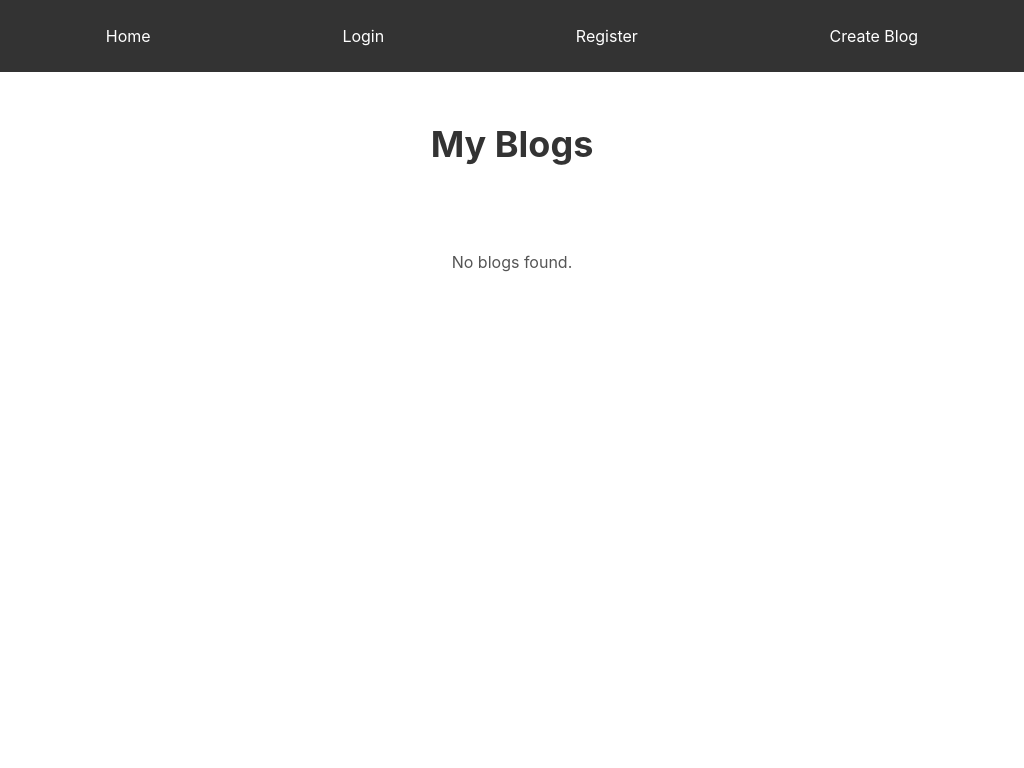
Test: navigates to /register when Register link is clicked
The image size is (1024, 768).
Click the link "Register" at (607, 36), box [576,26,638,46]
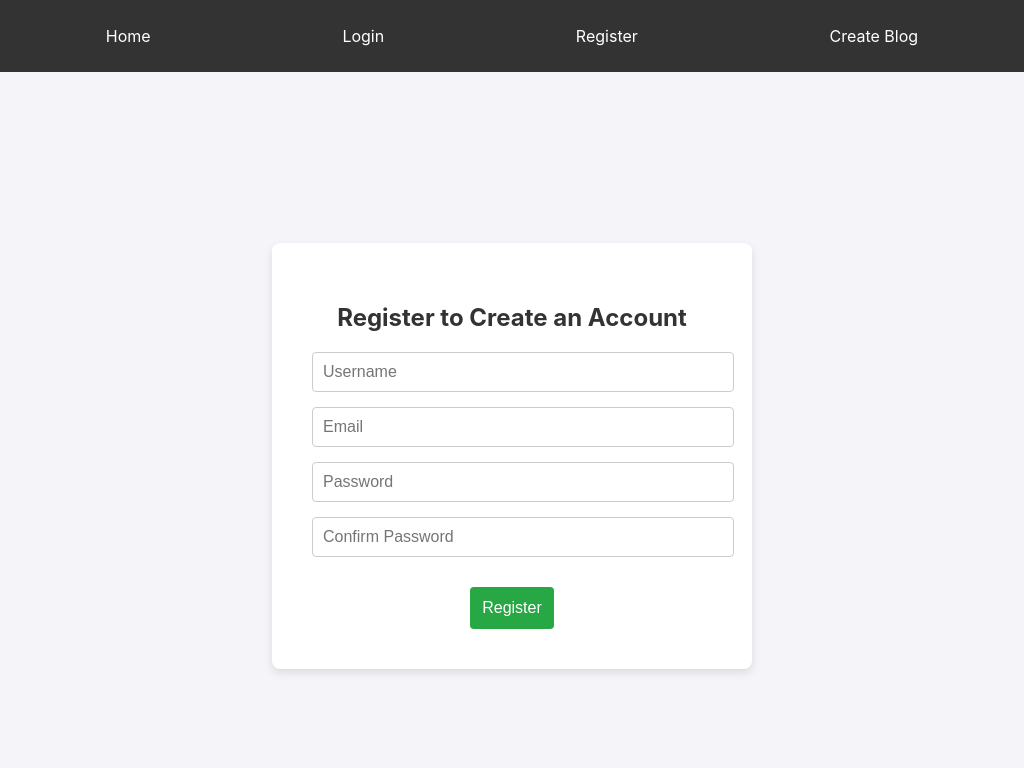
Now the heading "Register to Create an Account" is shown, box [312,303,712,332]
